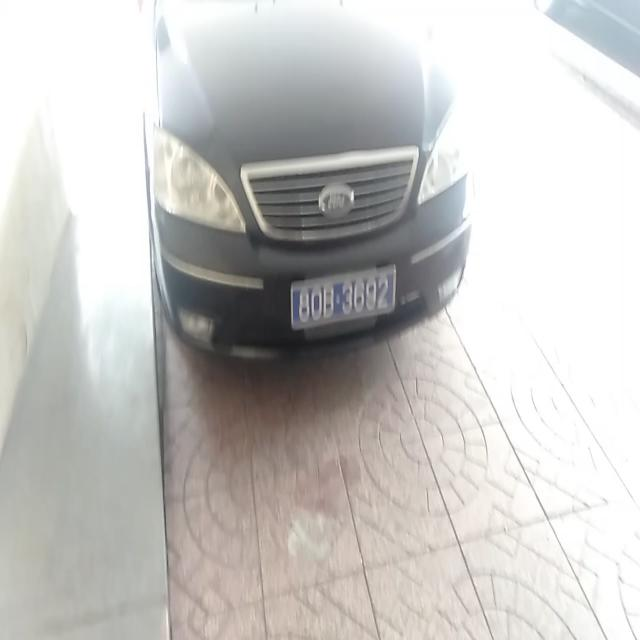bien_xanh: (289, 267, 398, 332)
